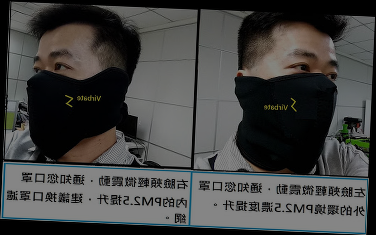with_mask: (240, 43, 338, 159), (28, 46, 101, 150)
